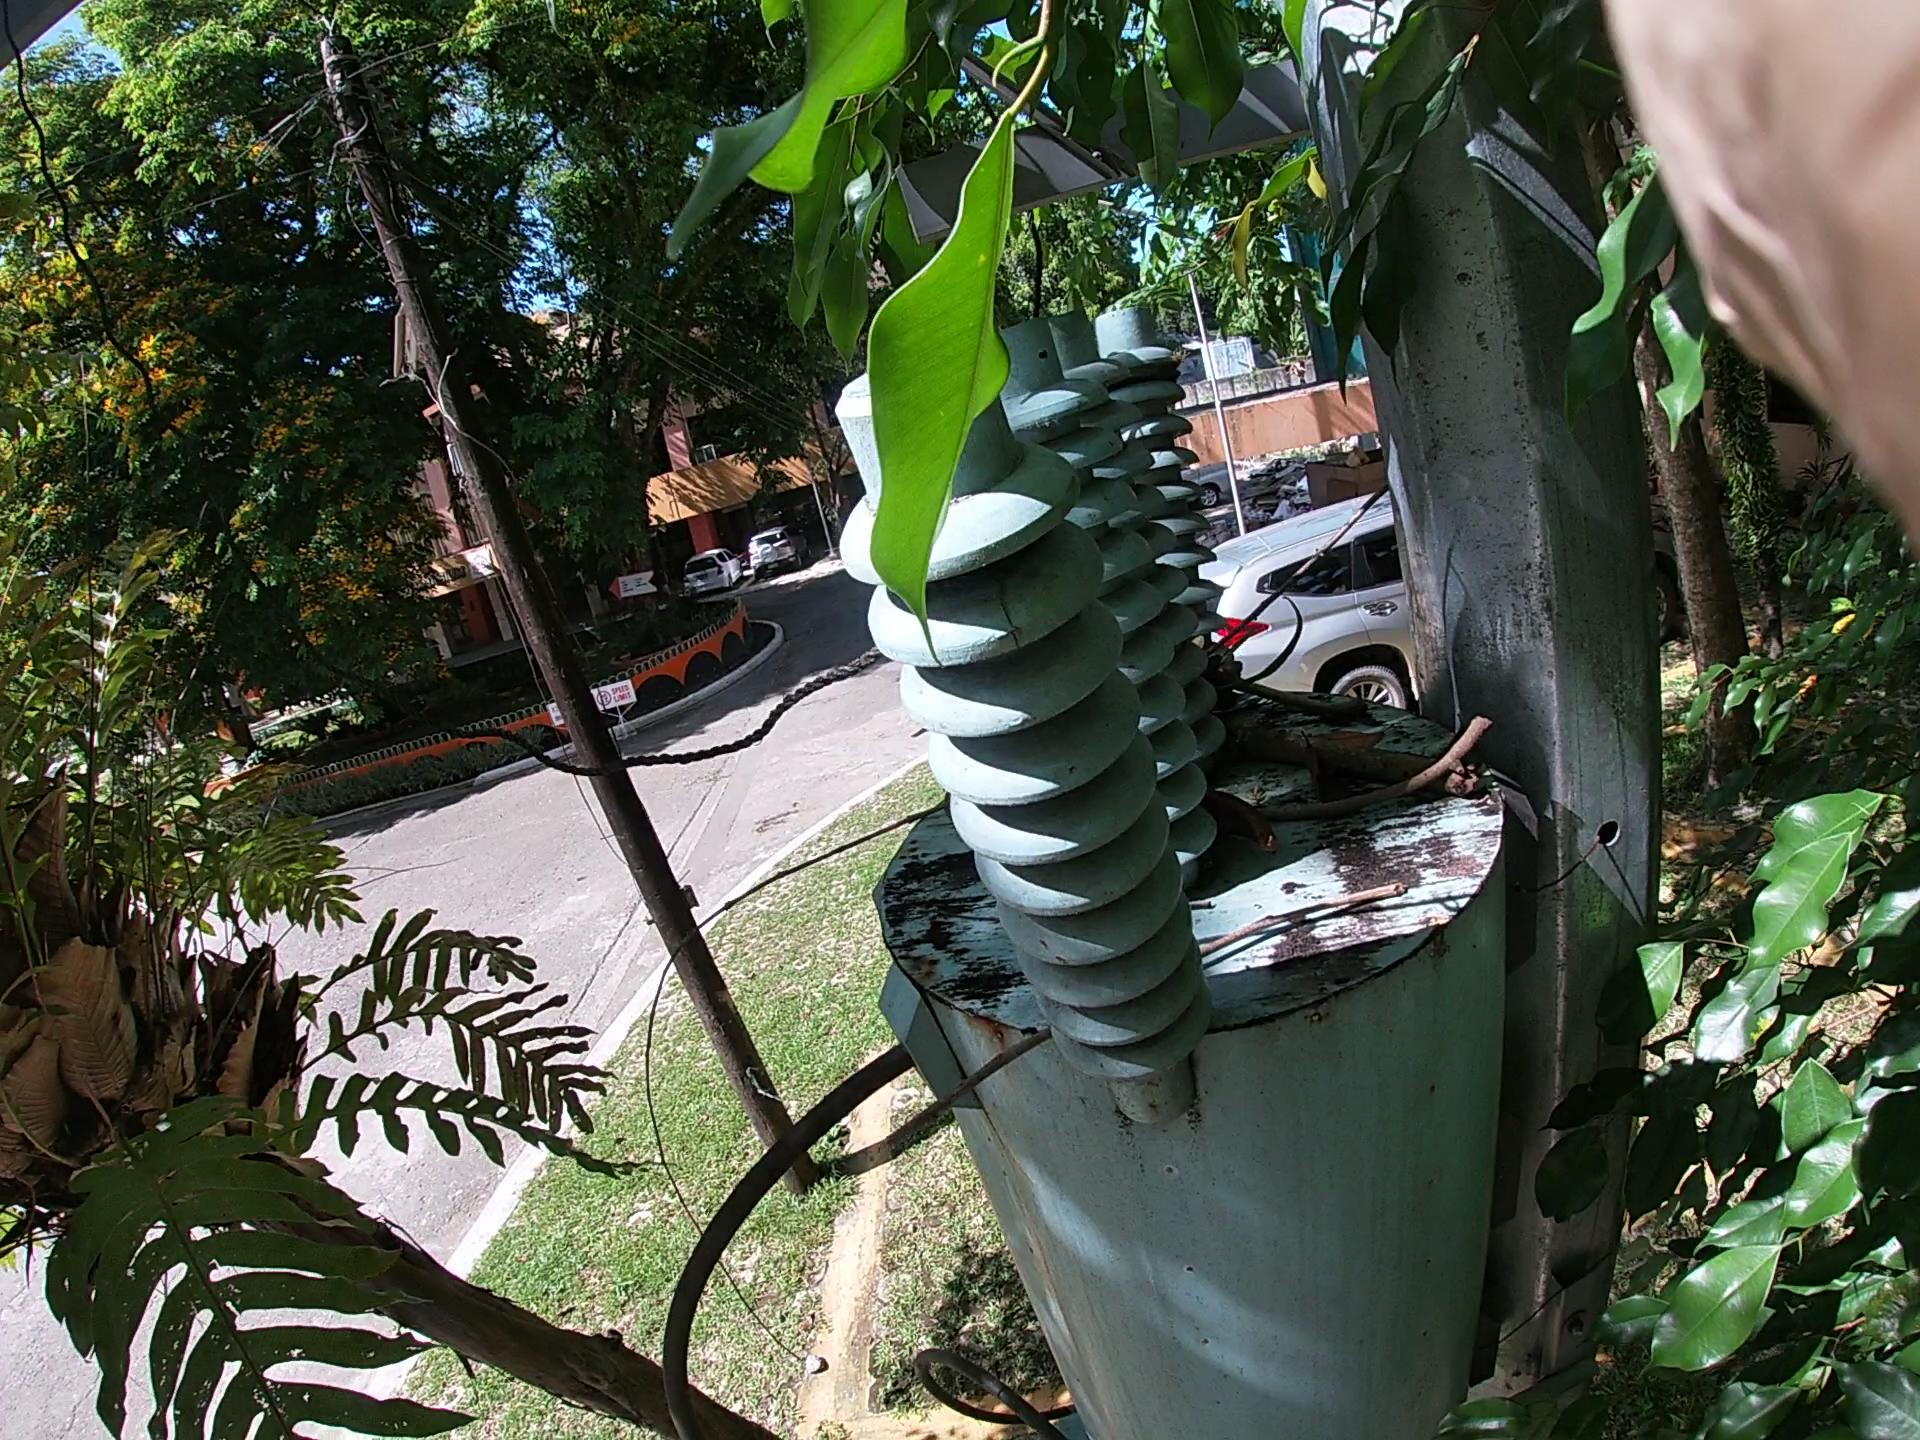leaf: (1312, 649, 1421, 809)
mahogany fruit: (1141, 576, 1370, 753)
tree branch: (457, 452, 1394, 1317), (816, 815, 1441, 1271), (1277, 687, 1583, 862)
